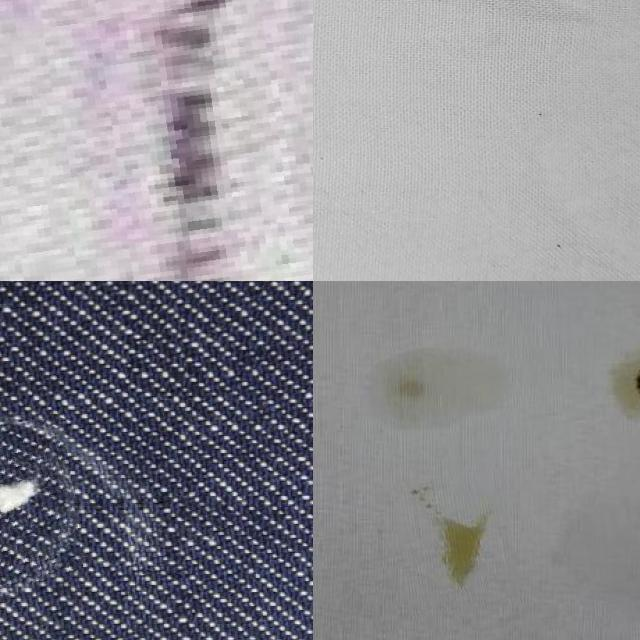Thread_other: (319, 292, 539, 457), (394, 472, 516, 616), (570, 297, 640, 473)
stains: (0, 422, 78, 591)
